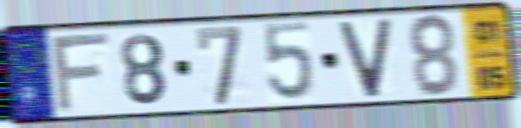5: (261, 19, 317, 106)
7: (192, 22, 246, 109)
8: (406, 11, 463, 101), (119, 31, 170, 108)
F: (49, 29, 114, 116)
V: (335, 16, 396, 101)
